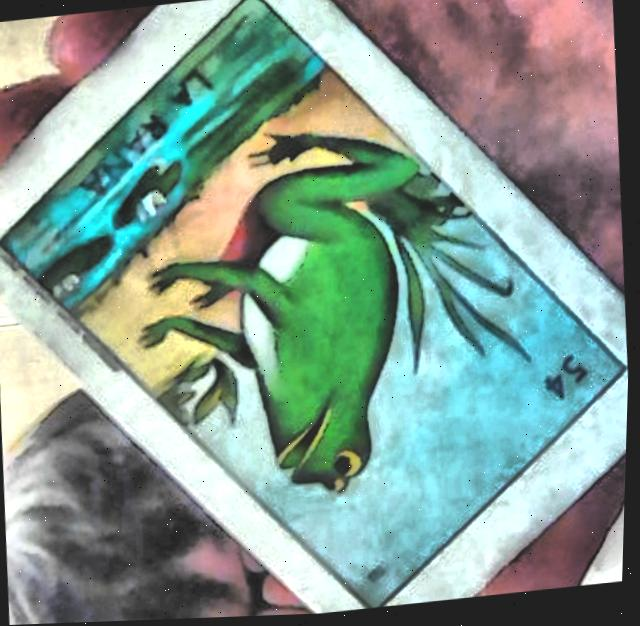La Rana: (2, 0, 625, 611)
